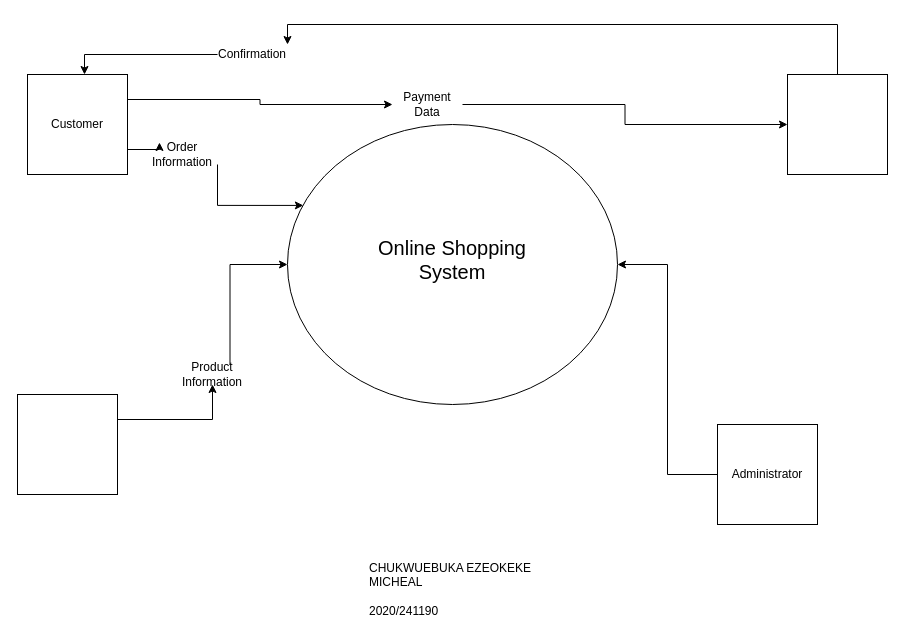
Some shapes in this 905 by 642 pixel diagram are drawn without their labels. The shapes that lost their labels are listed below. From the top down, each one's centre as x and y in pixels, then its label:
the point at 837,124: Payment Gateway
the point at 67,444: Inventory Database
